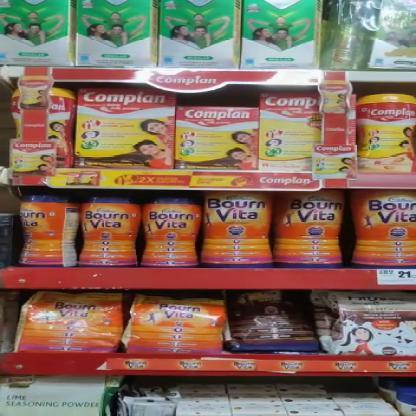Complan Kesar Badam: (256, 90, 318, 170)
Complan Royal Chocolate: (74, 90, 172, 168), (171, 106, 258, 167)
